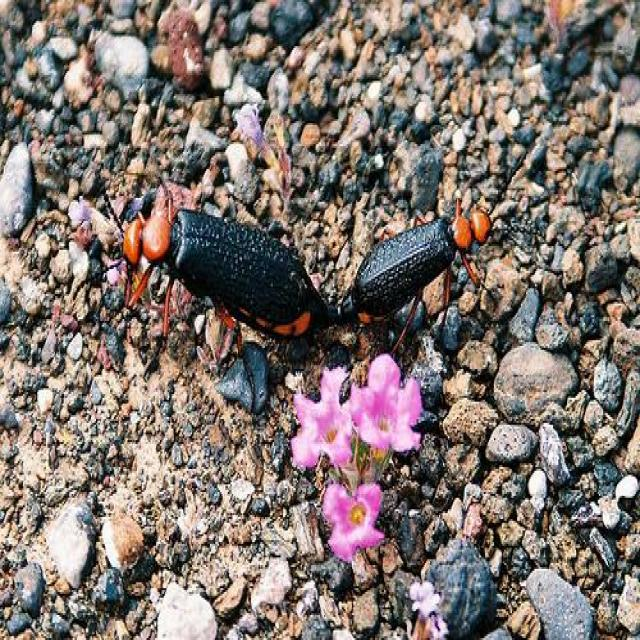BlisterBeetle-Adult-: (120, 191, 333, 367), (330, 189, 502, 347)
